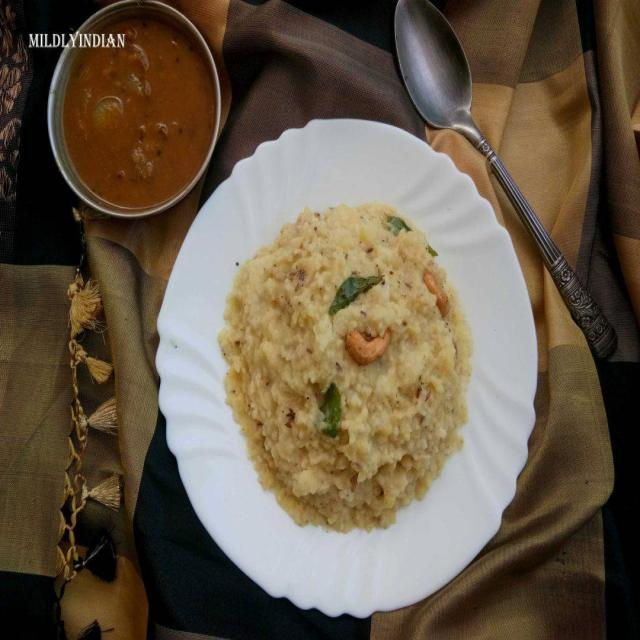khara pongal: (215, 192, 480, 545)
